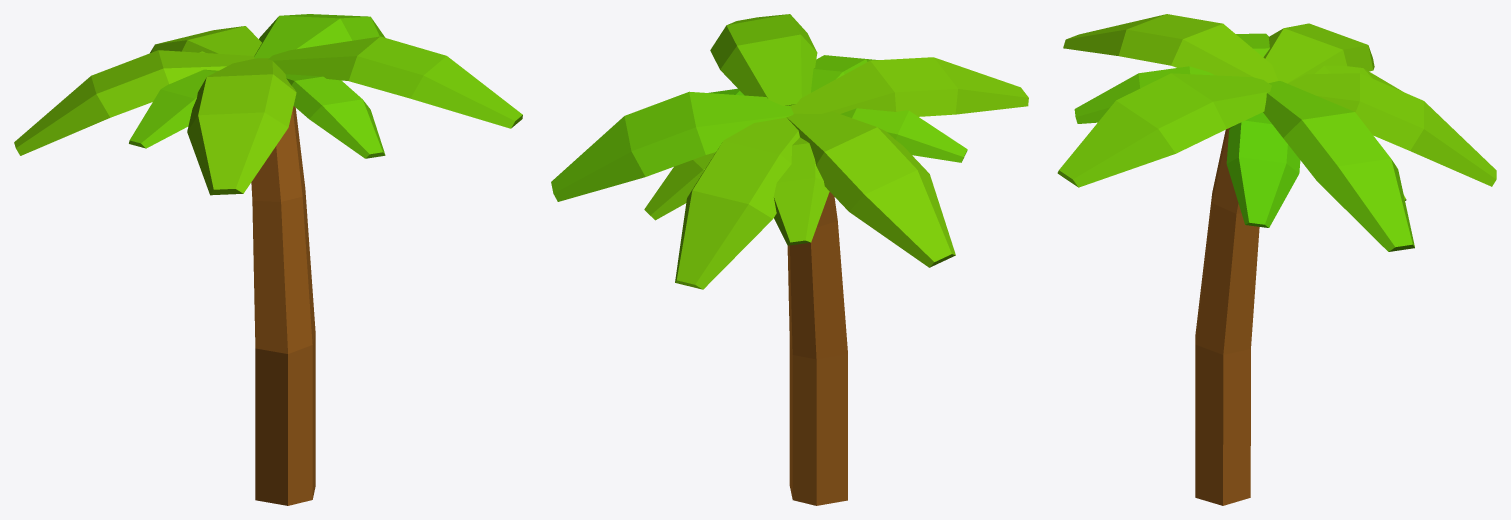
The model's file is palm2.glb.
3 renders of one model, left to right at view 1: azimuth 30°, elevation 25°; view 2: azimuth 150°, elevation 25°; view 3: azimuth 270°, elevation 25°, orthographic. The views are drawn at different scales.
Parts seen in each view (by area): view 1: Cube, Cube.004, Cube.003, Cube.005, Cube.008, Cube.002, Cube.007, Cube.001; view 2: Cube, Cube.005, Cube.001, Cube.002, Cube.004, Cube.003, Cube.006, Cube.007, Cube.010, Cube.008; view 3: Cube, Cube.003, Cube.002, Cube.001, Cube.004, Cube.009, Cube.005, Cube.008, Cube.006.
Part boxes in pixels (bbox=[...]): Cube: bbox=[251, 106, 315, 505]; Cube.004: bbox=[187, 58, 296, 195]; Cube.003: bbox=[268, 36, 522, 128]; Cube.005: bbox=[14, 50, 254, 155]; Cube.008: bbox=[285, 74, 385, 158]; Cube.002: bbox=[254, 14, 385, 58]; Cube.007: bbox=[129, 69, 218, 148]; Cube.001: bbox=[150, 26, 261, 55]; Cube: bbox=[787, 192, 847, 505]; Cube.005: bbox=[787, 111, 955, 267]; Cube.001: bbox=[675, 117, 799, 289]; Cube.002: bbox=[551, 91, 793, 201]; Cube.004: bbox=[790, 57, 1028, 116]; Cube.003: bbox=[710, 14, 817, 105]; Cube.006: bbox=[773, 137, 829, 245]; Cube.007: bbox=[840, 108, 967, 162]; Cube.010: bbox=[644, 152, 715, 220]; Cube.008: bbox=[811, 55, 877, 92]; Cube: bbox=[1195, 127, 1259, 505]; Cube.003: bbox=[1057, 73, 1271, 187]; Cube.002: bbox=[1263, 81, 1414, 251]; Cube.001: bbox=[1288, 73, 1496, 186]; Cube.004: bbox=[1063, 14, 1278, 83]; Cube.009: bbox=[1226, 112, 1300, 227]; Cube.005: bbox=[1263, 23, 1374, 83]; Cube.008: bbox=[1074, 66, 1214, 123]; Cube.006: bbox=[1315, 65, 1402, 91].
Size of the model in its own units: 6.49 by 7 by 6.33.
Materials: 11 (11 with a texture image).
